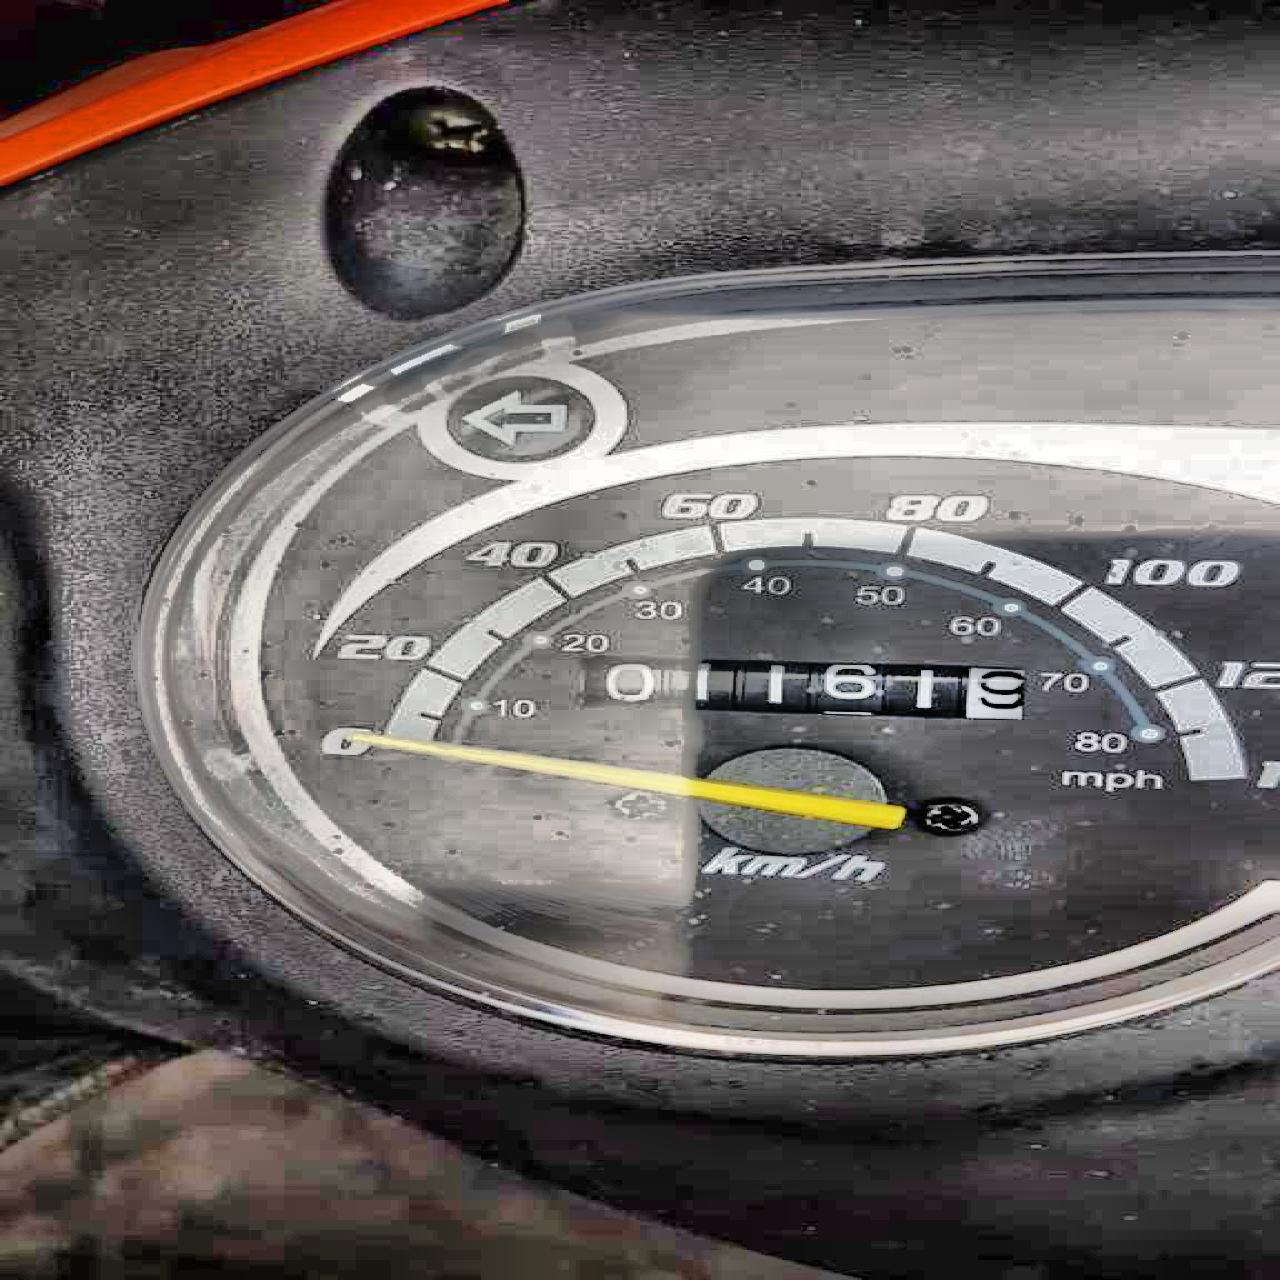0: (600, 660, 655, 702)
1: (904, 665, 940, 709), (687, 659, 713, 702), (761, 661, 787, 703)
6: (816, 661, 878, 701)
9: (972, 668, 1027, 710)
odometer: (568, 652, 1035, 722)
